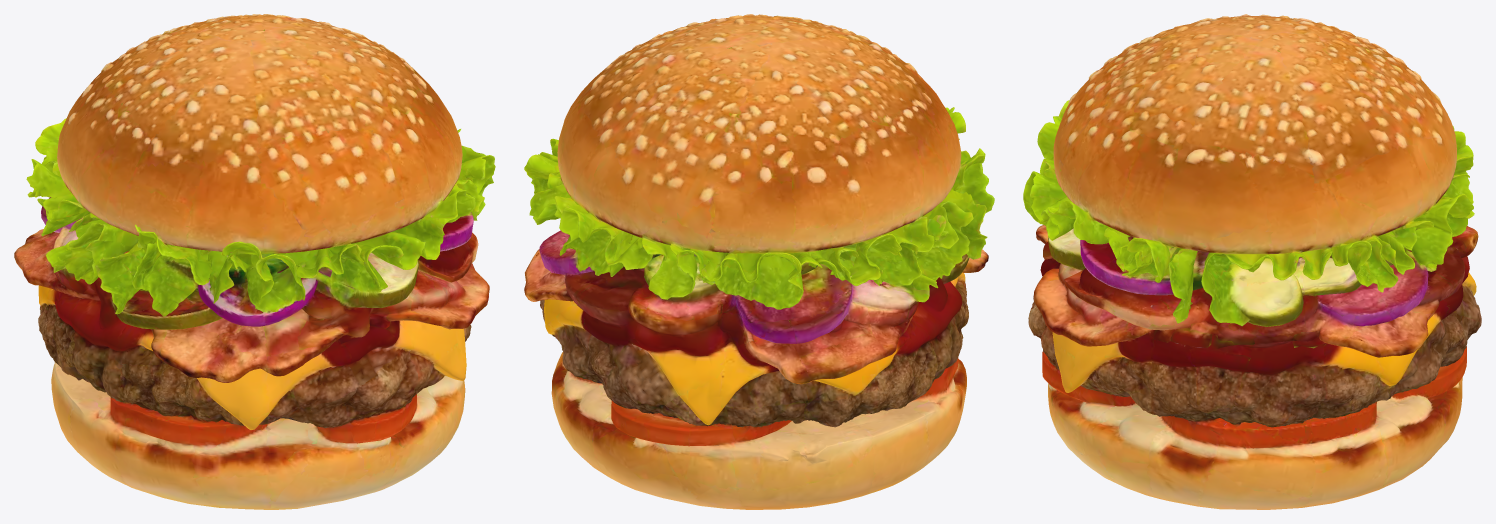
The model's file is burger-mobile.glb.
3 views of the same model, side by side, from view 1: azimuth 30°, elevation 25°; view 2: azimuth 150°, elevation 25°; view 3: azimuth 270°, elevation 25° (orthographic).
Parts seen in each view (by area): view 1: Mesh_0.002; view 2: Mesh_0.002; view 3: Mesh_0.002.
Part boxes in pixels (x1,y1,x2,y2): Mesh_0.002: (14, 14, 495, 509); Mesh_0.002: (524, 14, 994, 509); Mesh_0.002: (1023, 14, 1481, 509).
Bounding box in the file's own units: 0.124 × 0.12 × 0.1238.
1 material, 1 textured.
